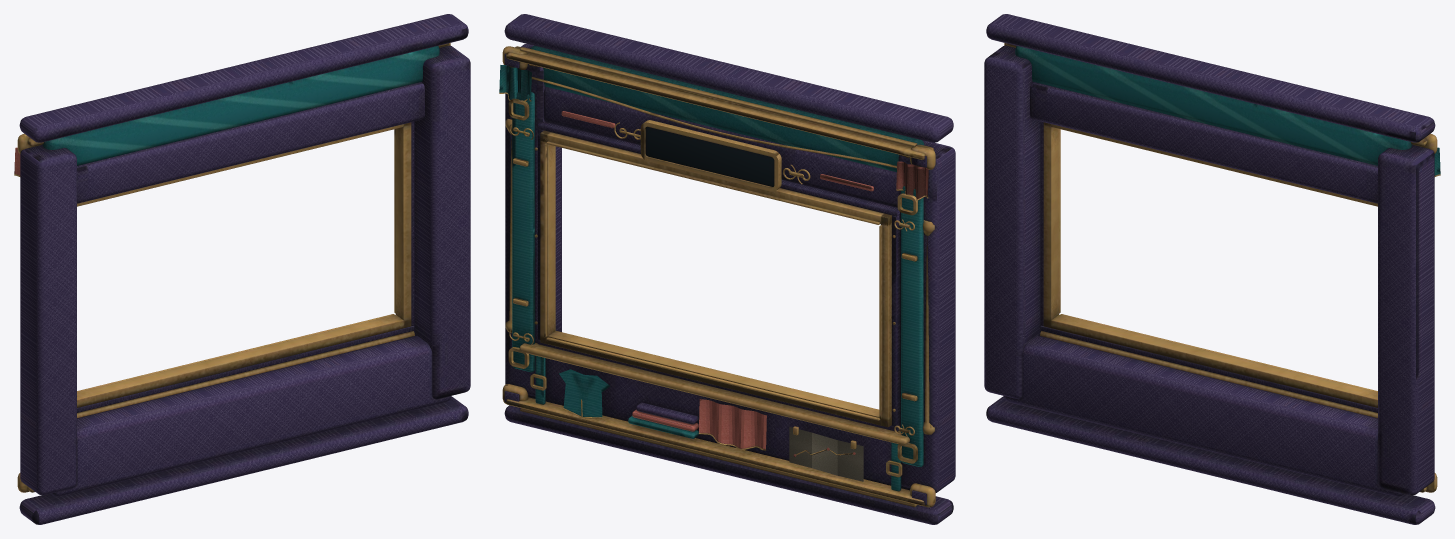
3 views of the same model, side by side, from view 1: azimuth 30°, elevation 25°; view 2: azimuth 150°, elevation 25°; view 3: azimuth 330°, elevation 25° (orthographic).
Parts seen in each view (by area): view 1: Violet_trunk_upholstery, Brushed_aged_brass, Teal_woven_cloth; view 2: Violet_trunk_upholstery, Brushed_aged_brass, Teal_woven_cloth, Coral_costume_silk, Dark_display_enamel, Ivory_route_paper; view 3: Violet_trunk_upholstery, Brushed_aged_brass, Teal_woven_cloth.
Part boxes in pixels (left/top/right/bottom): Violet_trunk_upholstery: left=19, top=14, right=470, bottom=524; Brushed_aged_brass: left=14, top=43, right=450, bottom=492; Teal_woven_cloth: left=42, top=46, right=439, bottom=165; Violet_trunk_upholstery: left=504, top=14, right=955, bottom=524; Brushed_aged_brass: left=499, top=46, right=935, bottom=507; Teal_woven_cloth: left=499, top=45, right=924, bottom=491; Coral_costume_silk: left=561, top=111, right=928, bottom=456; Dark_display_enamel: left=645, top=126, right=774, bottom=186; Ivory_route_paper: left=789, top=426, right=863, bottom=481; Violet_trunk_upholstery: left=984, top=14, right=1435, bottom=524; Brushed_aged_brass: left=1004, top=43, right=1440, bottom=492; Teal_woven_cloth: left=1015, top=46, right=1440, bottom=175.
Bounding box in the file's own units: 10.74 × 9.4 × 1.36.
Materials: 6 (6 with a texture image).
